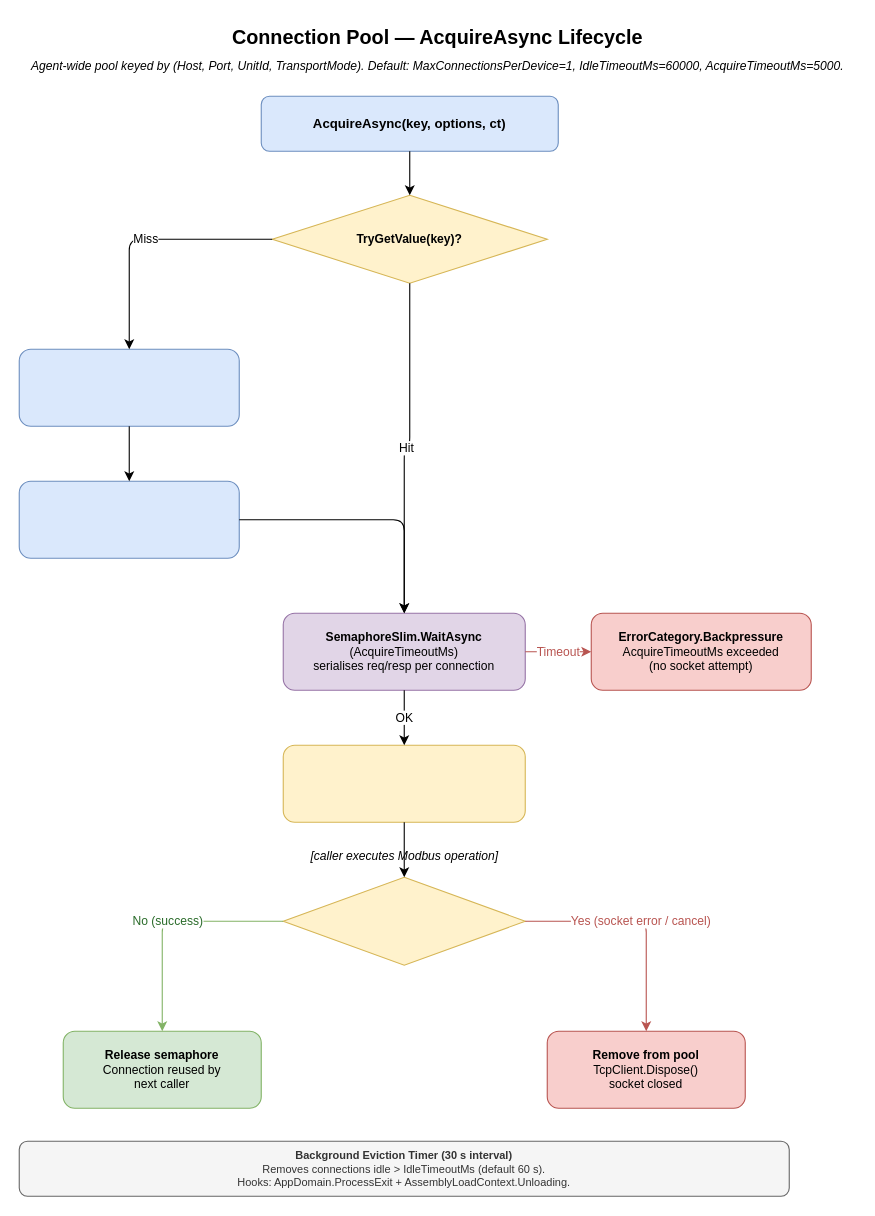
The diagram is 875 pixels wide and 1216 high, and some of its shapes have lost their labels. Each missing label, with the centre of its shape:
DisposeAsync: Poison=true?: point (403, 920)
ModbusConnection.ConnectAsync new TcpClient + IModbusMaster (ConnectTimeoutMs): point (128, 387)
ModbusLease issued IModbusMaster exposed CancellationToken registered: point (403, 783)
new PooledConnection ConcurrentDictionary.TryAdd SemaphoreSlim(1,1) attached: point (128, 519)
